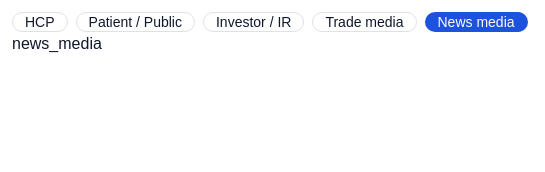
Test: AudienceChips › single-selects on click (radio semantics)
What coordinates should you click on to do the following:
click the radio button labelled "HCP"
I would click on:
 (40, 22)
Its box is left=12, top=12, right=68, bottom=32.
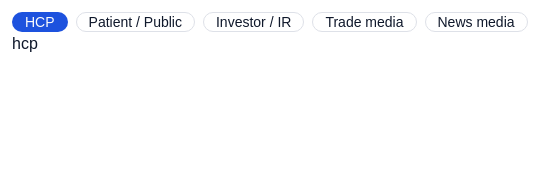
Now the text with test id "value" reads "hcp", box left=12, top=35, right=38, bottom=52
